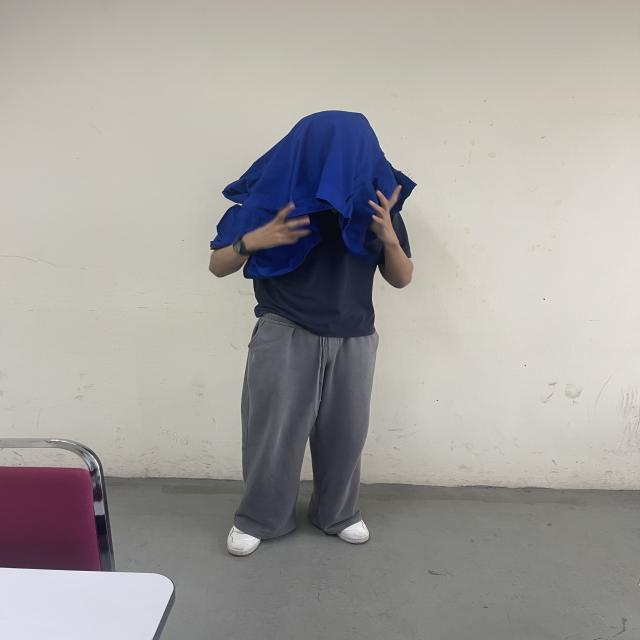person_without_labcoat: (210, 111, 415, 556)
